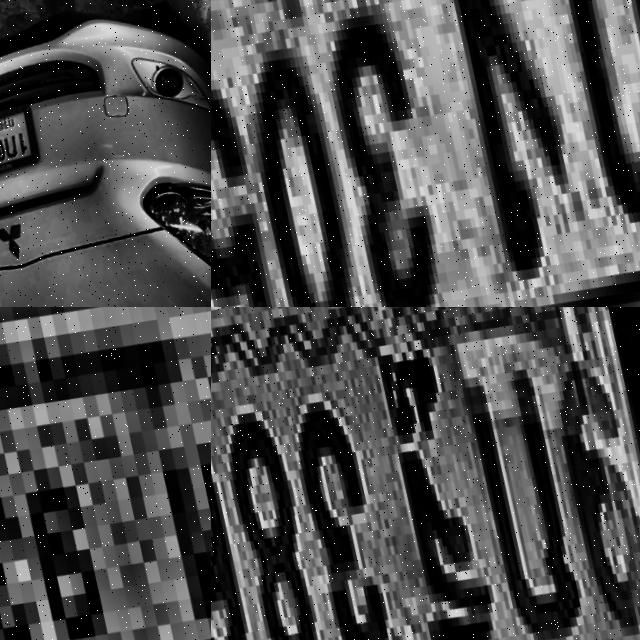license-plate: (211, 307, 640, 640), (211, 0, 640, 307), (0, 307, 211, 640), (0, 78, 51, 197)
